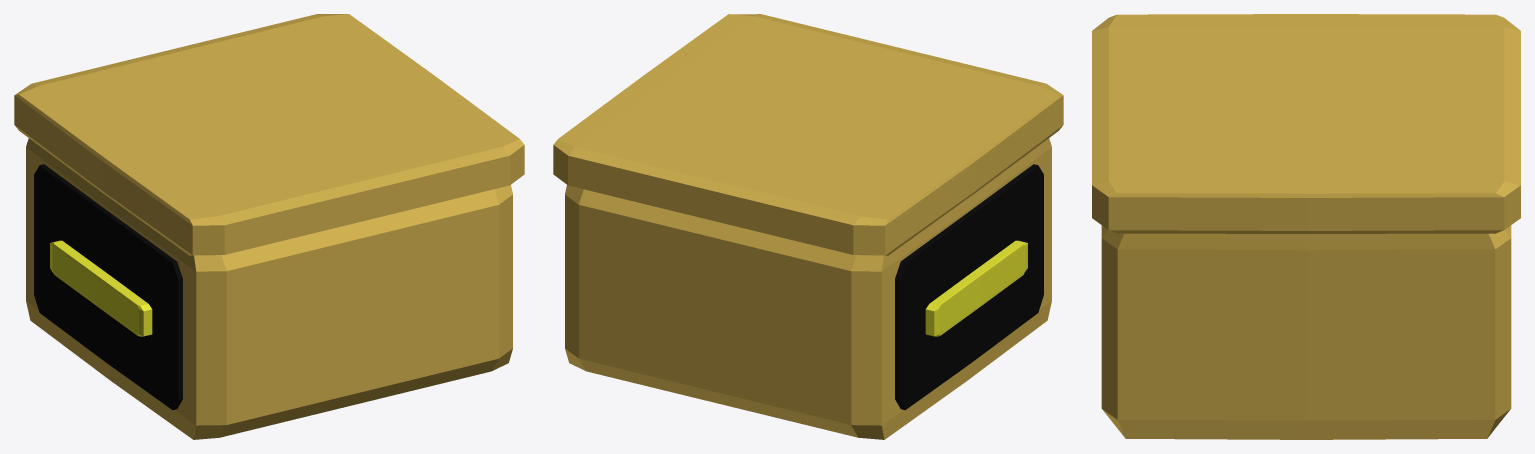
File: S&S_Table.fbx
3 views of the same model, side by side, from view 1: azimuth 30°, elevation 25°; view 2: azimuth 150°, elevation 25°; view 3: azimuth 270°, elevation 25° (orthographic). The views are drawn at different scales.
Visible parts, largest first — view 1: Cube.356; view 2: Cube.356; view 3: Cube.356.
Part boxes in pixels (x1,y1,x2,y2): Cube.356: (14, 14, 524, 439); Cube.356: (553, 14, 1063, 439); Cube.356: (1092, 14, 1520, 439).
Size of the model in its own units: 2.16 by 2.12 by 1.38.
